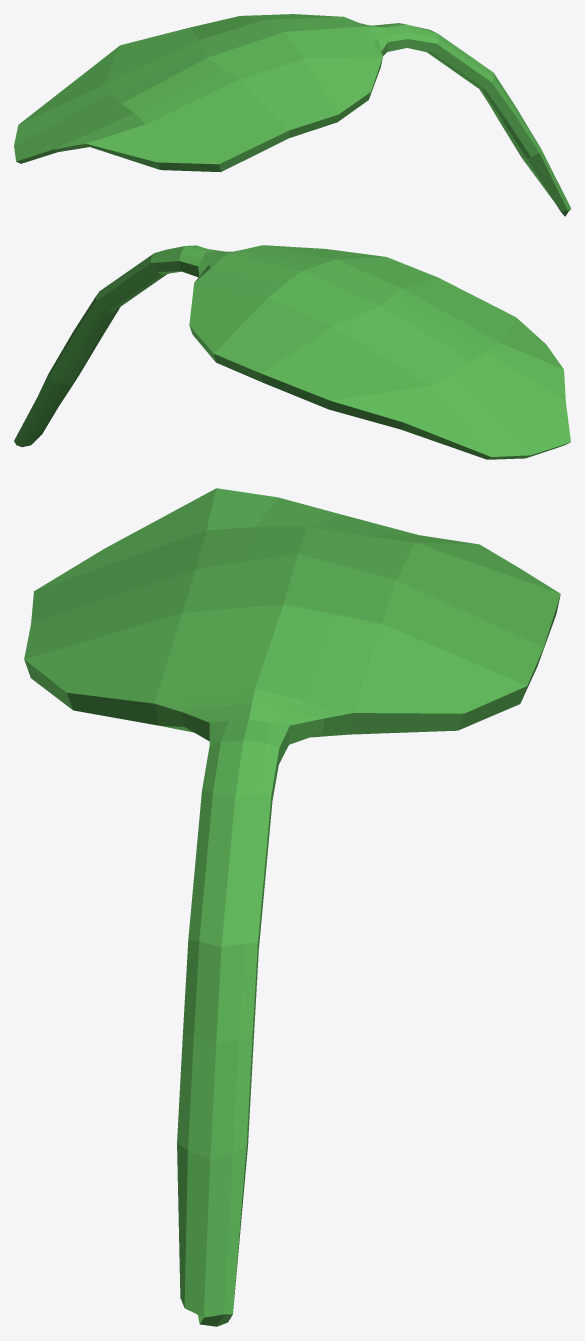
Rendered from HOJAnormal3.fbx.
3 views of the same model, one above another, from view 1: azimuth 30°, elevation 25°; view 2: azimuth 150°, elevation 25°; view 3: azimuth 270°, elevation 25° (orthographic). The views are drawn at different scales.
Visible parts, largest first — view 1: Plane.015; view 2: Plane.015; view 3: Plane.015.
Boxes of the visible parts, x1,y1,x2,y2 form: Plane.015: (14, 14, 570, 216); Plane.015: (14, 245, 570, 459); Plane.015: (24, 488, 560, 1326).
Size of the model in its own units: 752 by 322 by 336.
